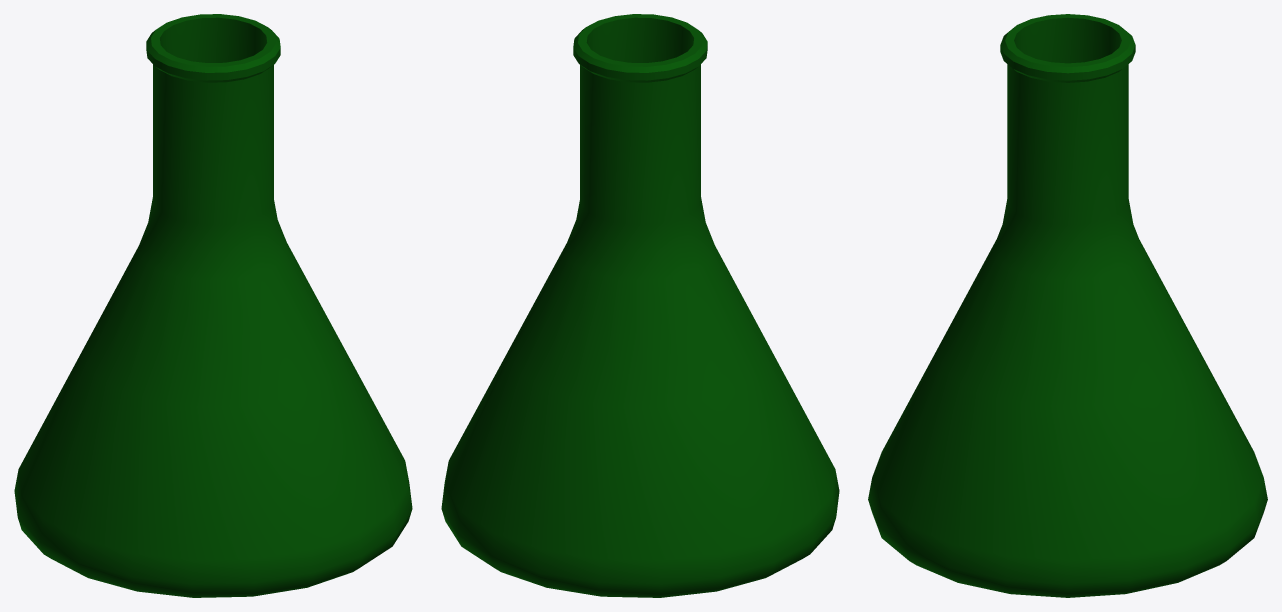
File: Beaker.fbx
3 renders of one model, left to right at view 1: azimuth 30°, elevation 25°; view 2: azimuth 150°, elevation 25°; view 3: azimuth 270°, elevation 25°, orthographic.
Parts seen in each view (by area): view 1: Beaker; view 2: Beaker; view 3: Beaker.
Boxes of the visible parts, x1,y1,x2,y2 form: Beaker: (14, 14, 412, 597); Beaker: (441, 14, 839, 597); Beaker: (868, 14, 1267, 597).
Size of the model in its own units: 408 by 538 by 408.
